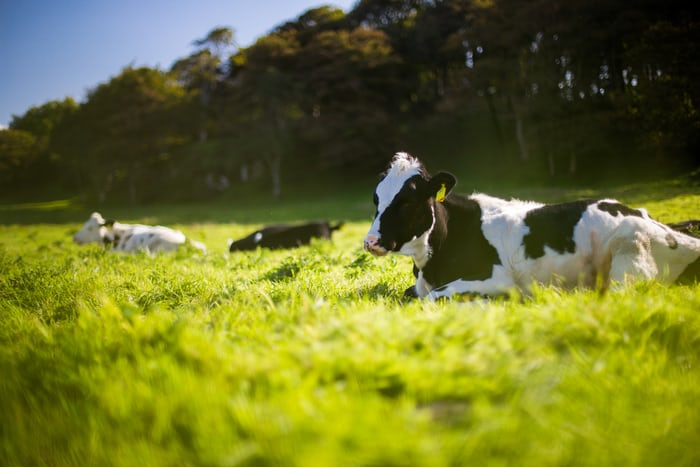nontarget: (352, 127, 700, 334)
